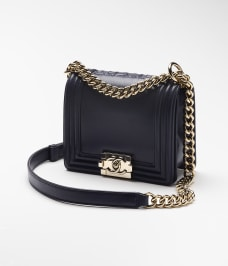channel: (51, 58, 206, 200), (75, 52, 166, 101), (182, 69, 202, 182), (88, 155, 141, 182)
